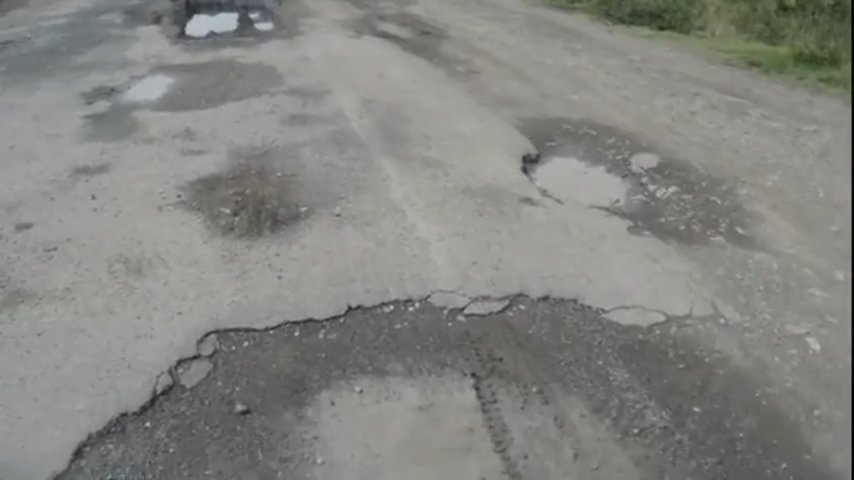pothole: (610, 295, 842, 480), (684, 125, 854, 301), (559, 67, 743, 167)
